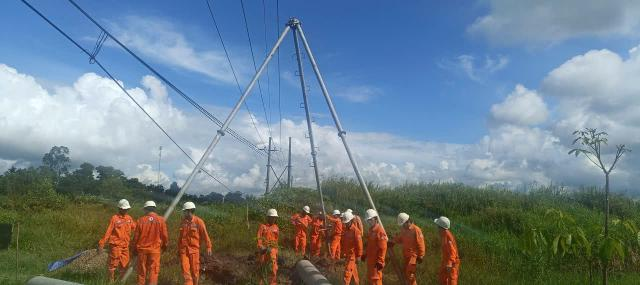gloves: (414, 256, 424, 267), (374, 260, 383, 272), (160, 244, 169, 254), (443, 264, 453, 273), (95, 245, 104, 254), (354, 257, 362, 266), (387, 241, 395, 250), (361, 253, 367, 264), (130, 248, 139, 255), (258, 245, 267, 251), (207, 249, 213, 254)
helmet: (433, 216, 454, 231), (141, 198, 160, 213), (396, 212, 411, 228), (113, 200, 132, 212), (266, 206, 281, 220), (181, 199, 197, 212), (339, 212, 356, 224), (364, 209, 377, 222), (301, 206, 312, 215), (332, 206, 340, 217), (345, 208, 354, 215), (316, 211, 325, 217), (339, 213, 346, 218)
